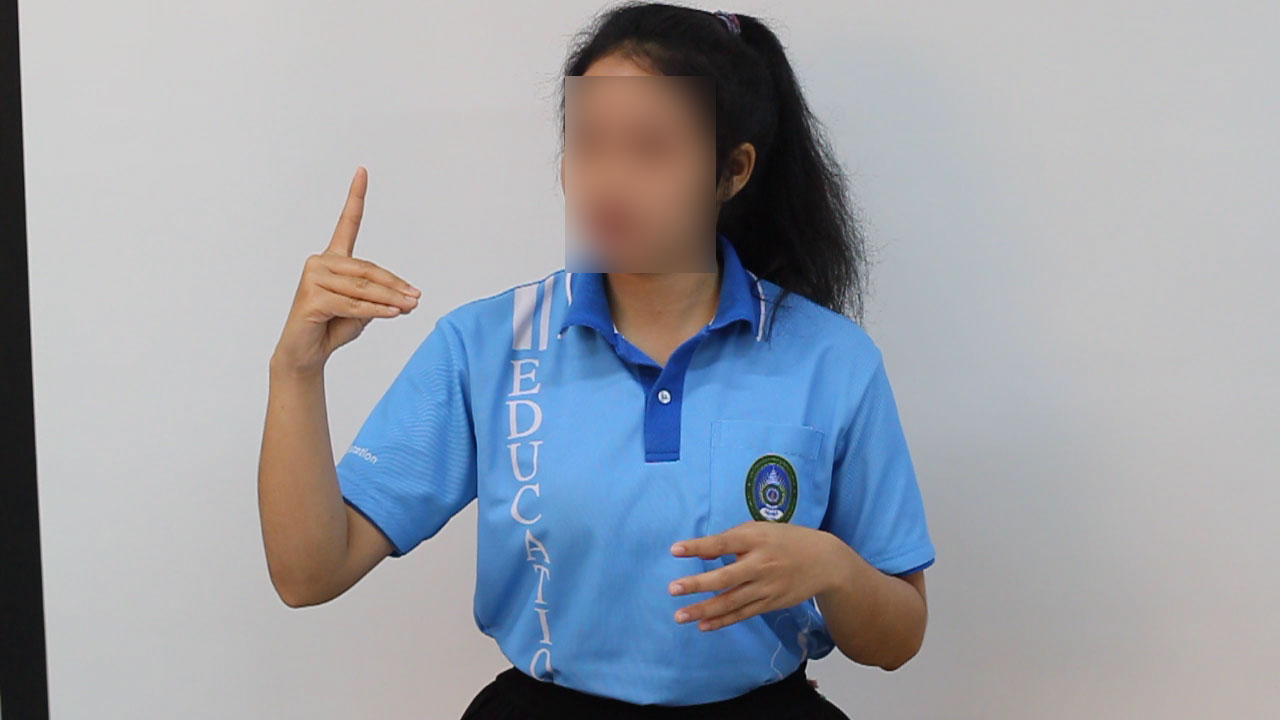dor: (264, 155, 430, 376)
